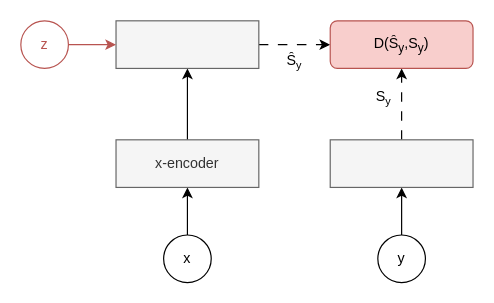
Some shapes in this 494 by 303 pixel diagram are drawn without their labels. The centre of each missing label's shape, as x and y in pixels:
predictor: point (187, 44)
y-encoder: point (401, 163)
